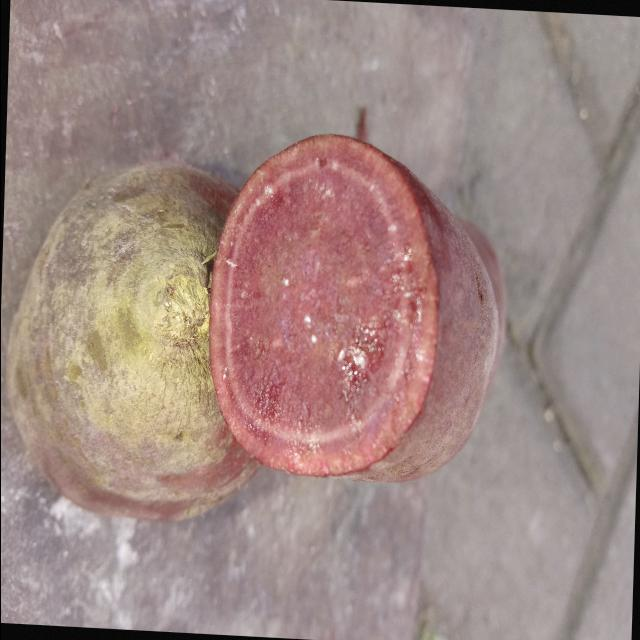Healthy Sweet Potato: (209, 135, 436, 477)
